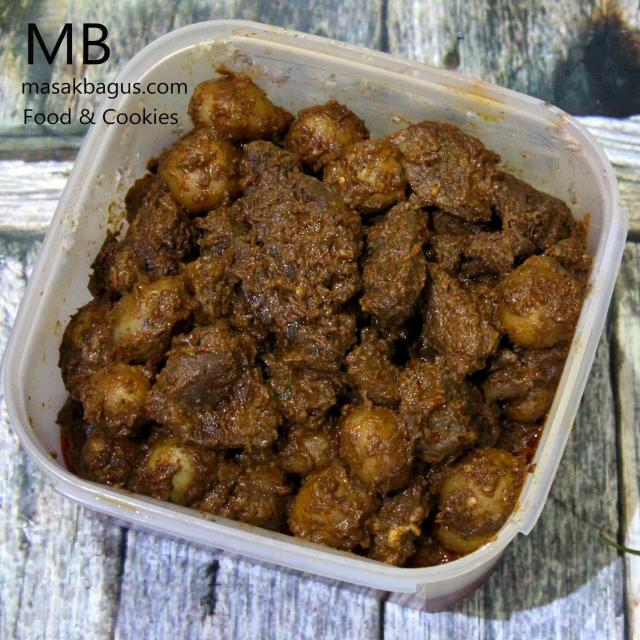Wet Waste: (59, 68, 589, 570)
